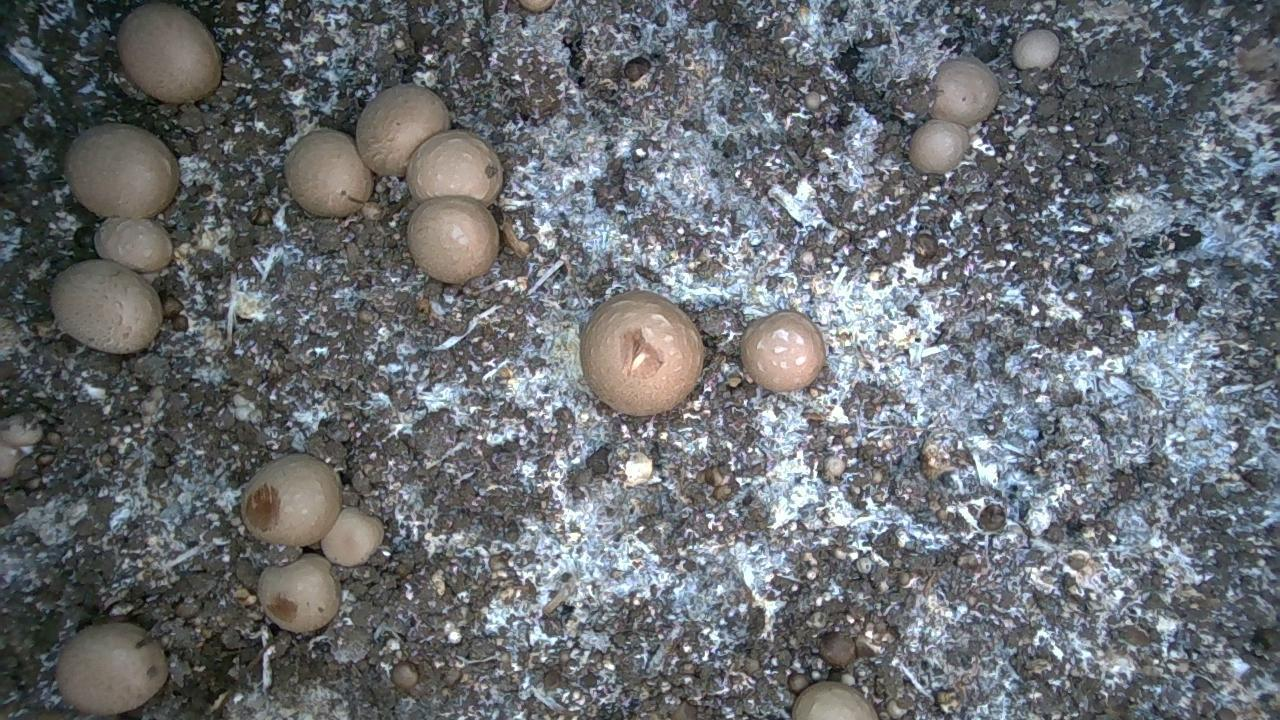BB: (580, 291, 703, 415), (65, 123, 179, 218), (51, 259, 162, 353), (117, 3, 221, 103), (56, 623, 168, 714), (240, 453, 340, 545), (356, 84, 449, 175), (407, 196, 498, 284), (285, 129, 372, 217), (406, 130, 502, 204), (741, 311, 825, 390), (258, 553, 338, 632), (94, 217, 172, 271), (321, 507, 383, 566), (909, 119, 969, 173), (792, 682, 877, 719), (1012, 29, 1059, 69)
